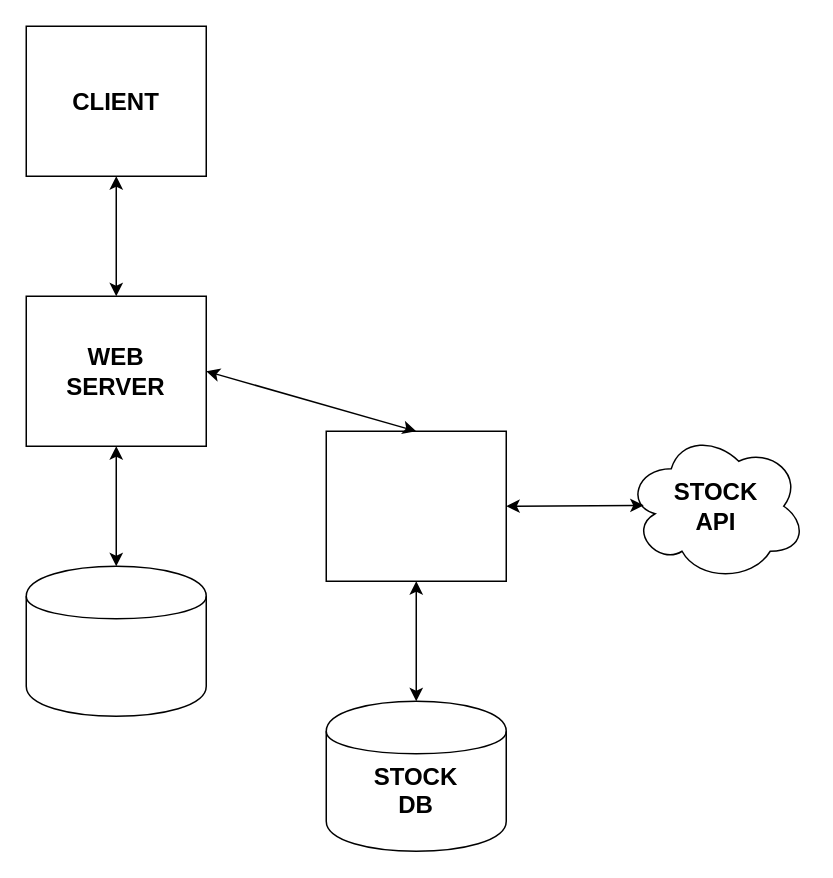
This 833x878 diagram has some shape labels left out. The box of each missing label's shape, as (x1, y1, x2, y2) in pixels:
PRIMARY DB: (25, 565, 206, 716)
STOCK CHART SERVICE + WORKER: (325, 430, 506, 581)
